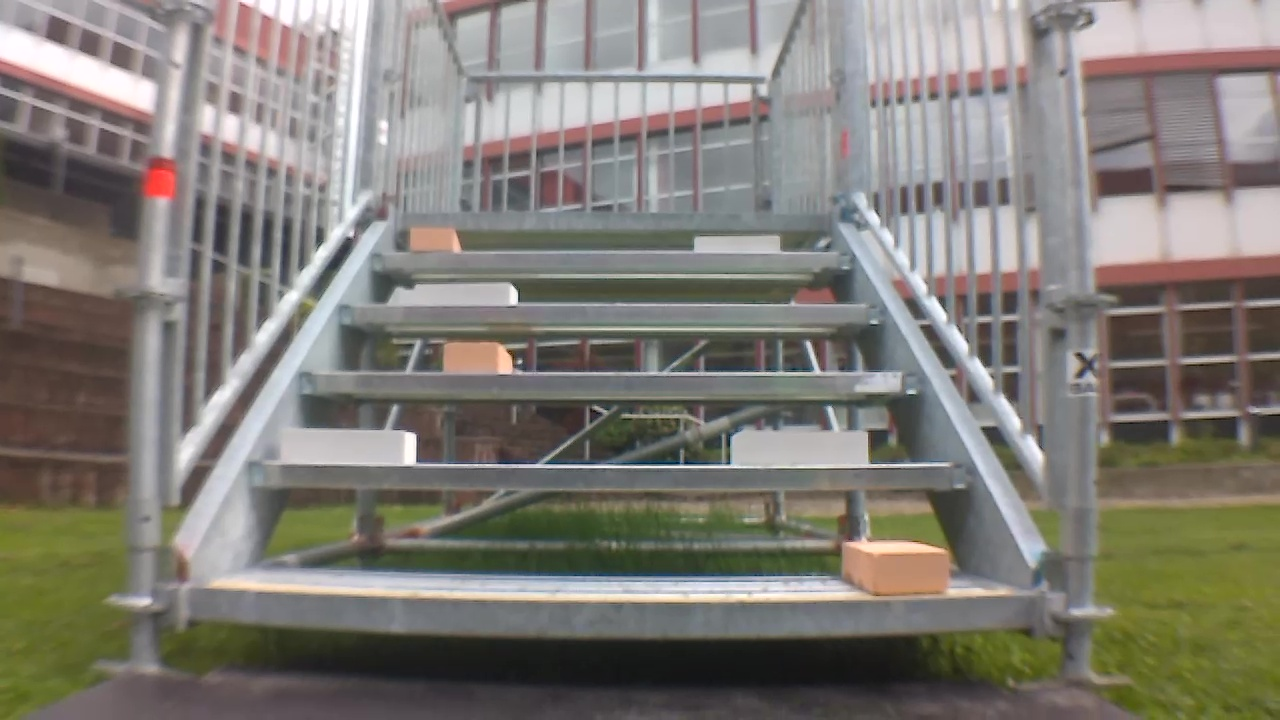brick: (841, 540, 948, 594), (731, 431, 868, 464), (283, 429, 415, 463), (443, 342, 510, 372), (416, 284, 515, 304), (693, 235, 778, 252), (412, 228, 460, 251)
edge: (188, 587, 1031, 635), (244, 463, 969, 491), (297, 372, 922, 398), (338, 304, 885, 325), (372, 250, 857, 270), (399, 212, 834, 229)
stairs: (98, 2, 1122, 689)
steps: (182, 208, 1041, 649)
